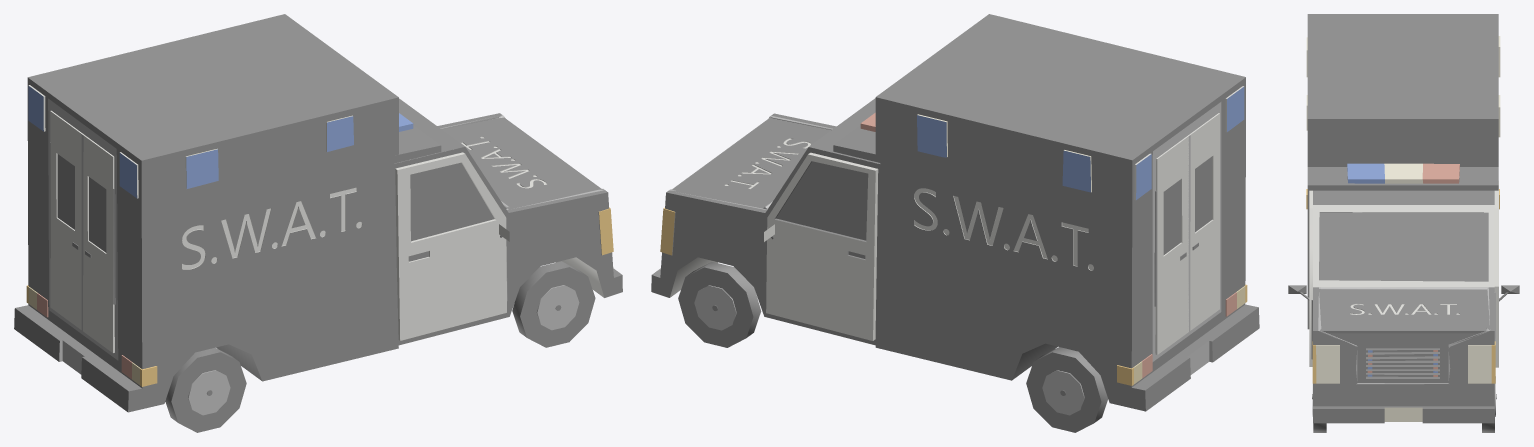
Rendered from swat.fbx.
3 views of the same model, side by side, from view 1: azimuth 30°, elevation 25°; view 2: azimuth 150°, elevation 25°; view 3: azimuth 270°, elevation 25° (orthographic). The views are drawn at different scales.
Parts seen in each view (by area): view 1: Boole_2, Cylinder, Boole, Cylinder_1, Cylinder_3, Cylinder_6, Cylinder_9; view 2: Boole_2, Cylinder_5, Boole, Cylinder_3, Cylinder_1, Cylinder_7, Cylinder_8; view 3: Boole_2, Boole, Cylinder_5, Cylinder.
Boxes of the visible parts, x1,y1,x2,y2 form: Boole_2: [14, 14, 622, 412]; Cylinder: [395, 152, 509, 340]; Boole: [442, 117, 601, 208]; Cylinder_1: [81, 133, 115, 352]; Cylinder_3: [50, 110, 82, 329]; Cylinder_6: [512, 261, 595, 347]; Cylinder_9: [165, 347, 246, 432]; Boole_2: [651, 14, 1259, 411]; Cylinder_5: [764, 152, 878, 340]; Boole: [672, 118, 830, 209]; Cylinder_3: [1154, 136, 1188, 354]; Cylinder_1: [1188, 113, 1219, 331]; Cylinder_7: [678, 262, 761, 347]; Cylinder_8: [1026, 347, 1107, 432]; Boole_2: [1306, 14, 1500, 423]; Boole: [1321, 287, 1487, 382]; Cylinder_5: [1494, 181, 1519, 367]; Cylinder: [1288, 190, 1312, 366].
Size of the model in its own units: 505 by 281 by 242.
